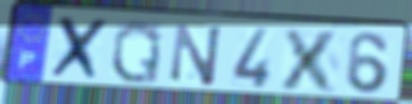4: (229, 25, 273, 90)
6: (343, 30, 393, 97)
N: (169, 22, 225, 89)
Q: (109, 17, 165, 86)
X: (276, 26, 345, 95), (46, 14, 113, 84)
